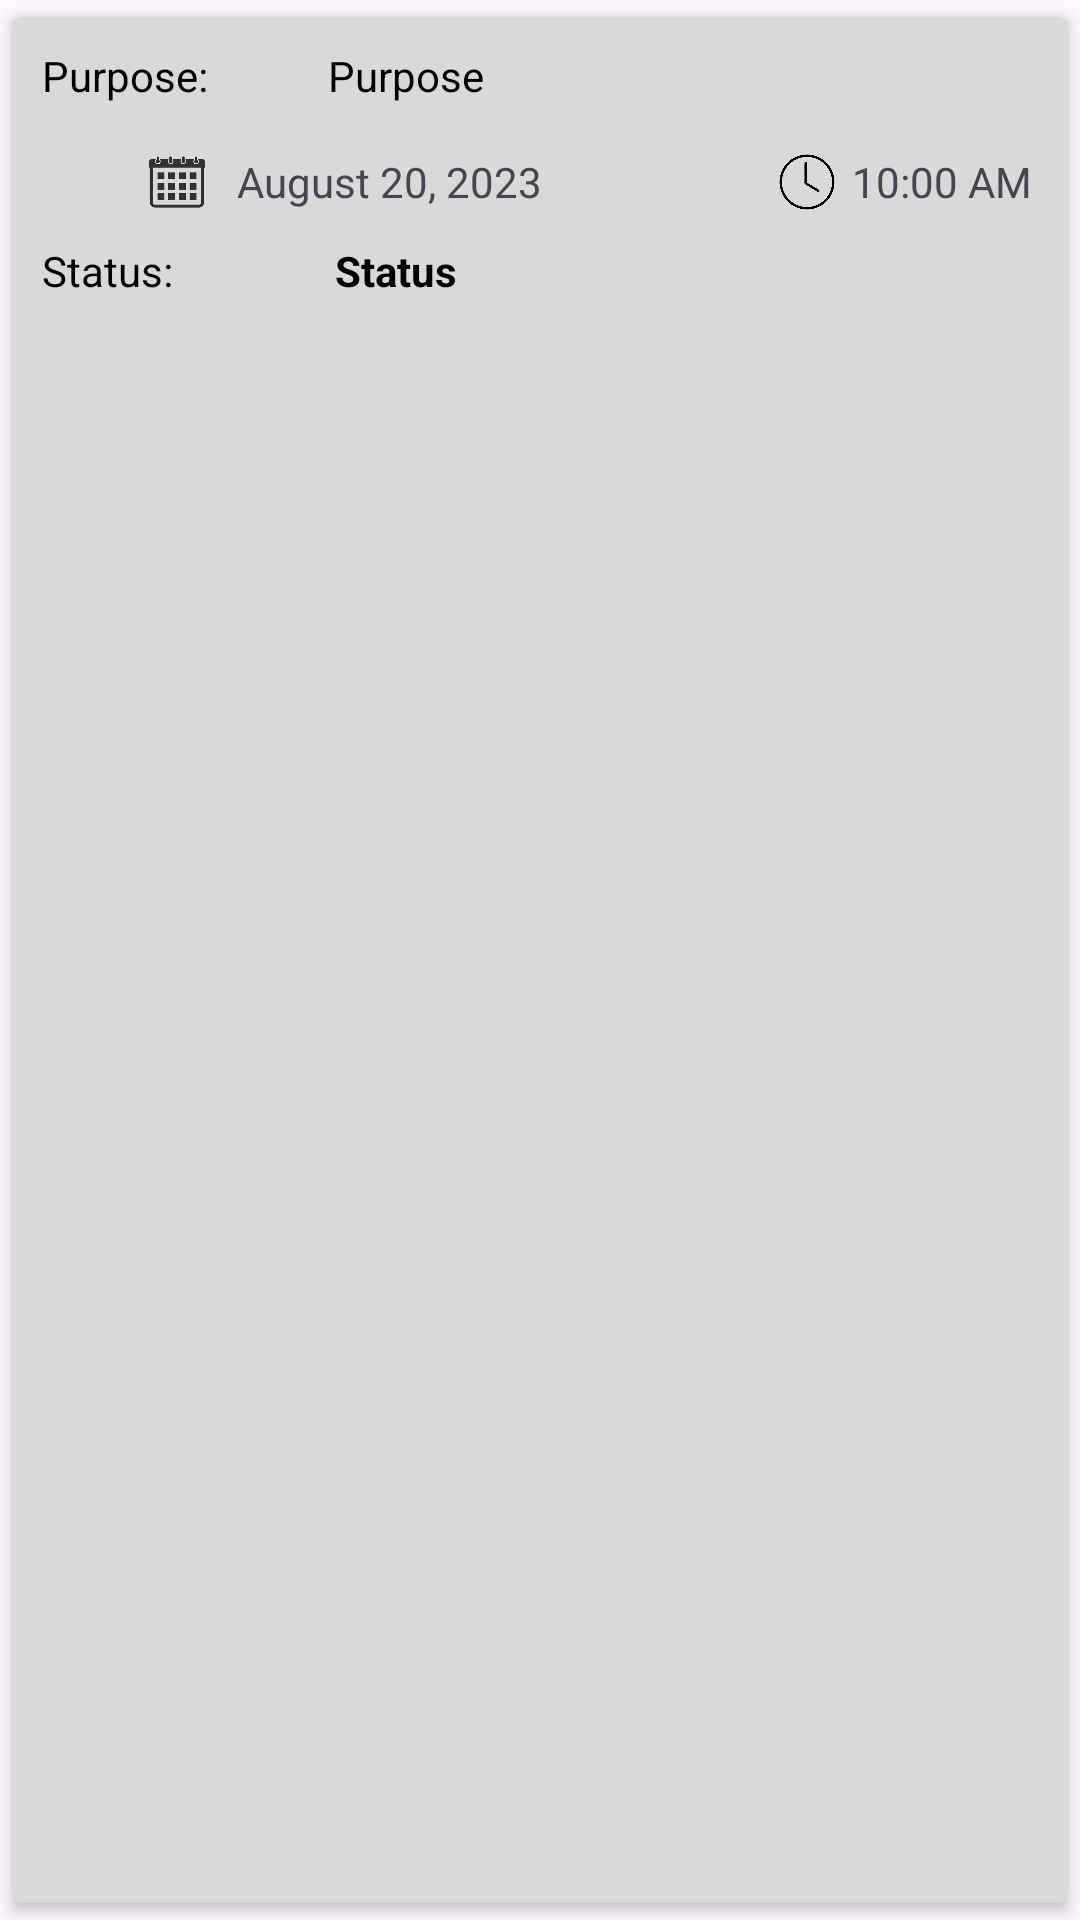

Icon click points for this 1080px×1920px phone screenshot, format [x,y]:
date: [177,182]
time: [807,182]
